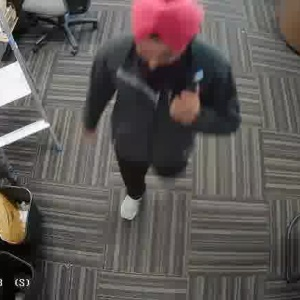person: (97, 0, 224, 218)
